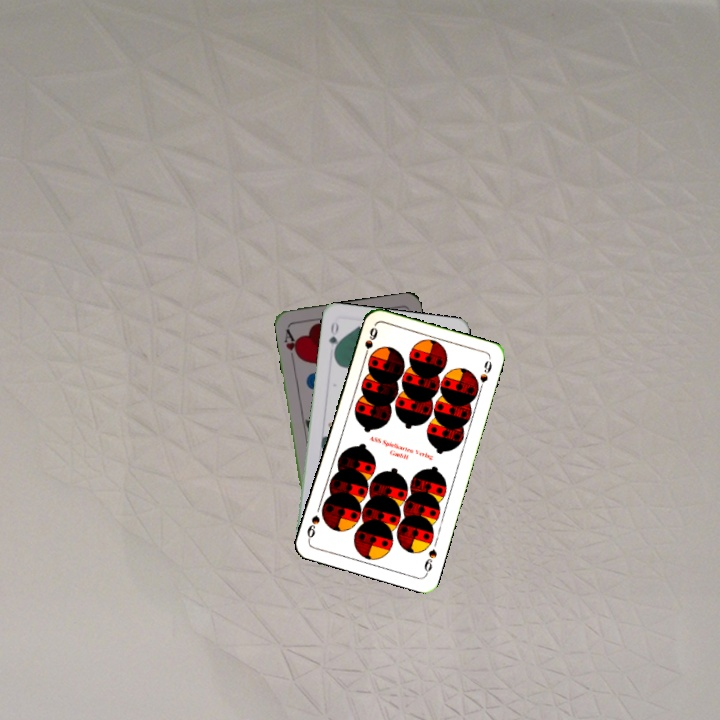GO: (325, 318, 342, 358)
HA: (280, 325, 302, 364)
S9: (360, 323, 380, 362), (420, 545, 439, 577)
